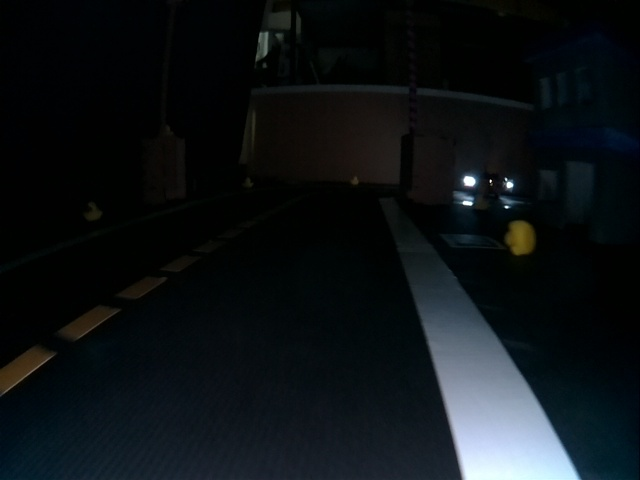Duckie: (507, 219, 535, 255), (83, 201, 102, 221), (350, 176, 359, 184), (243, 178, 250, 184)
QR code: (442, 233, 501, 249)
